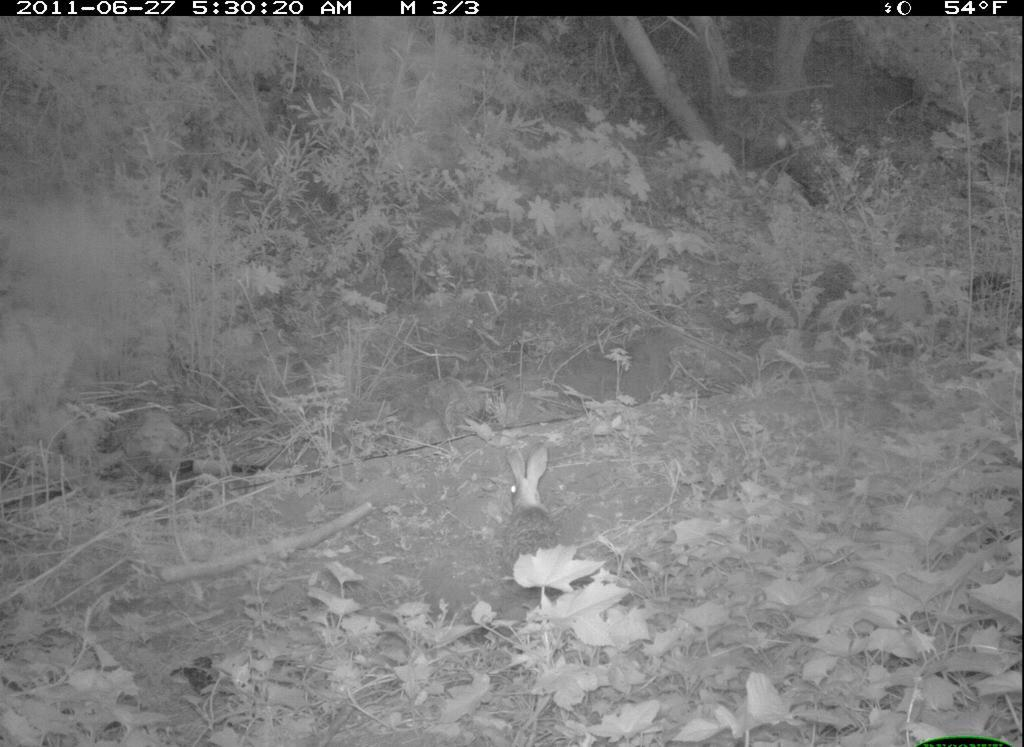rabbit: (495, 450, 583, 593)
